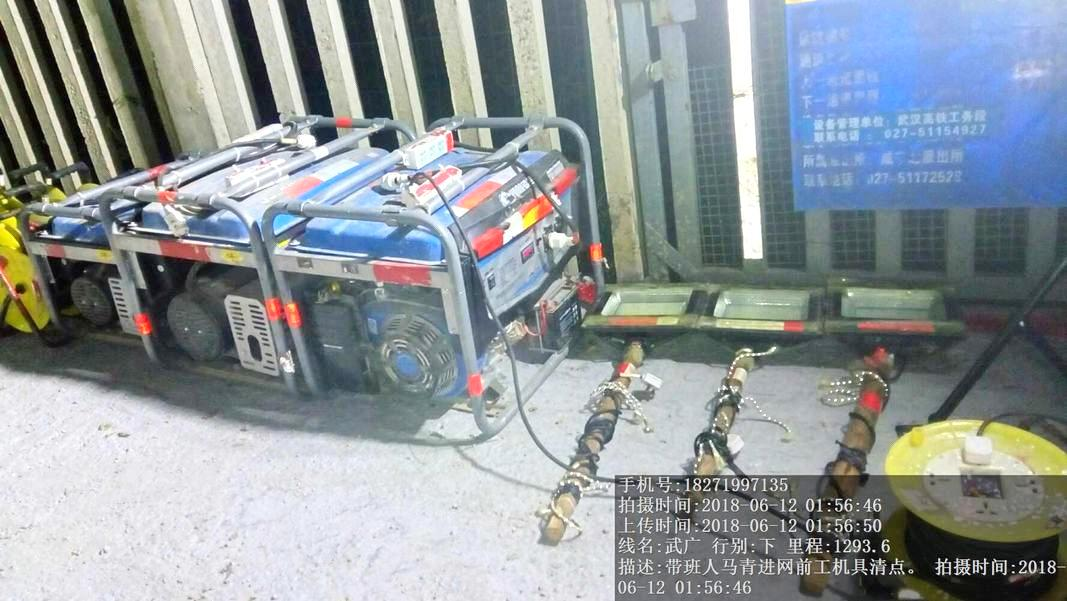DJ: (305, 113, 603, 409), (147, 115, 378, 364)
